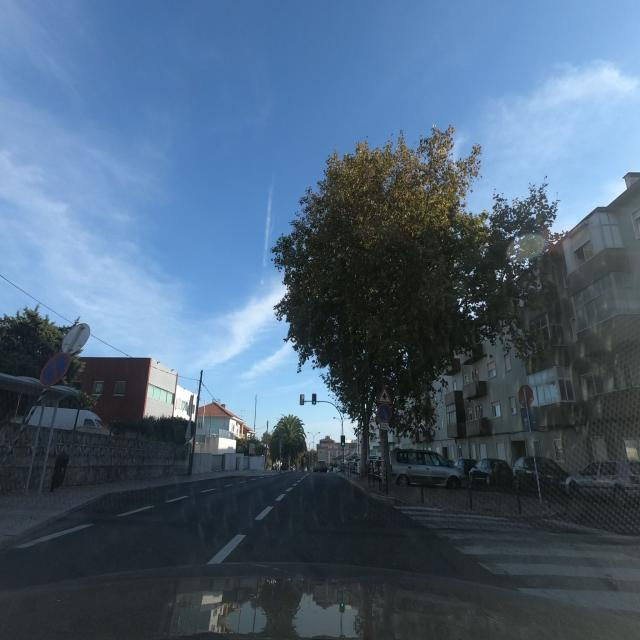forb_stopping: (377, 402, 392, 423)
